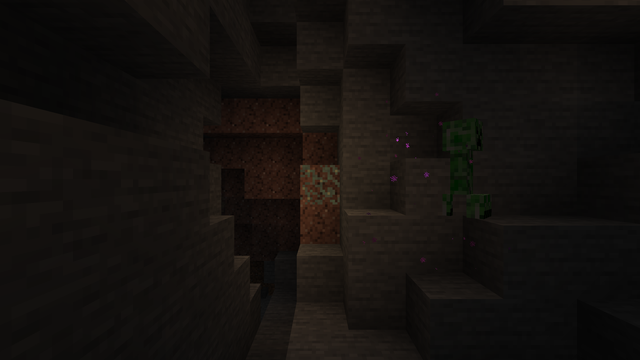creepers: (437, 113, 490, 217)
